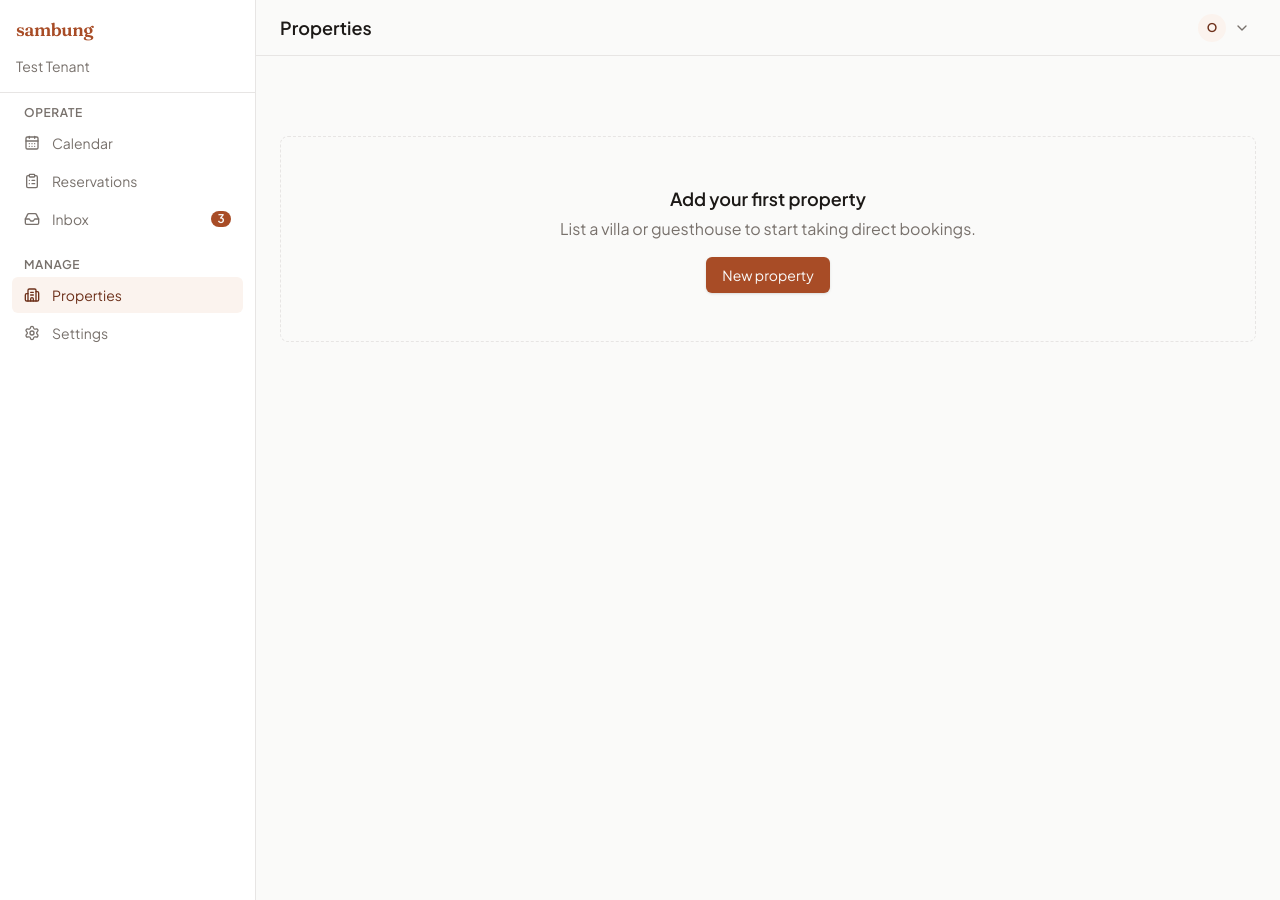
Scenario: AppShell › renders grouped nav, the account menu, and the inbox badge
Check: the text "Operate" is shown, box [24,105,83,120]
Check: the text "Manage" is shown, box [24,257,80,272]
Account menu surfaces the signed-in email + a log out action.
Click the button named "account menu".
click(1224, 28)  # box [1192,10,1256,46]
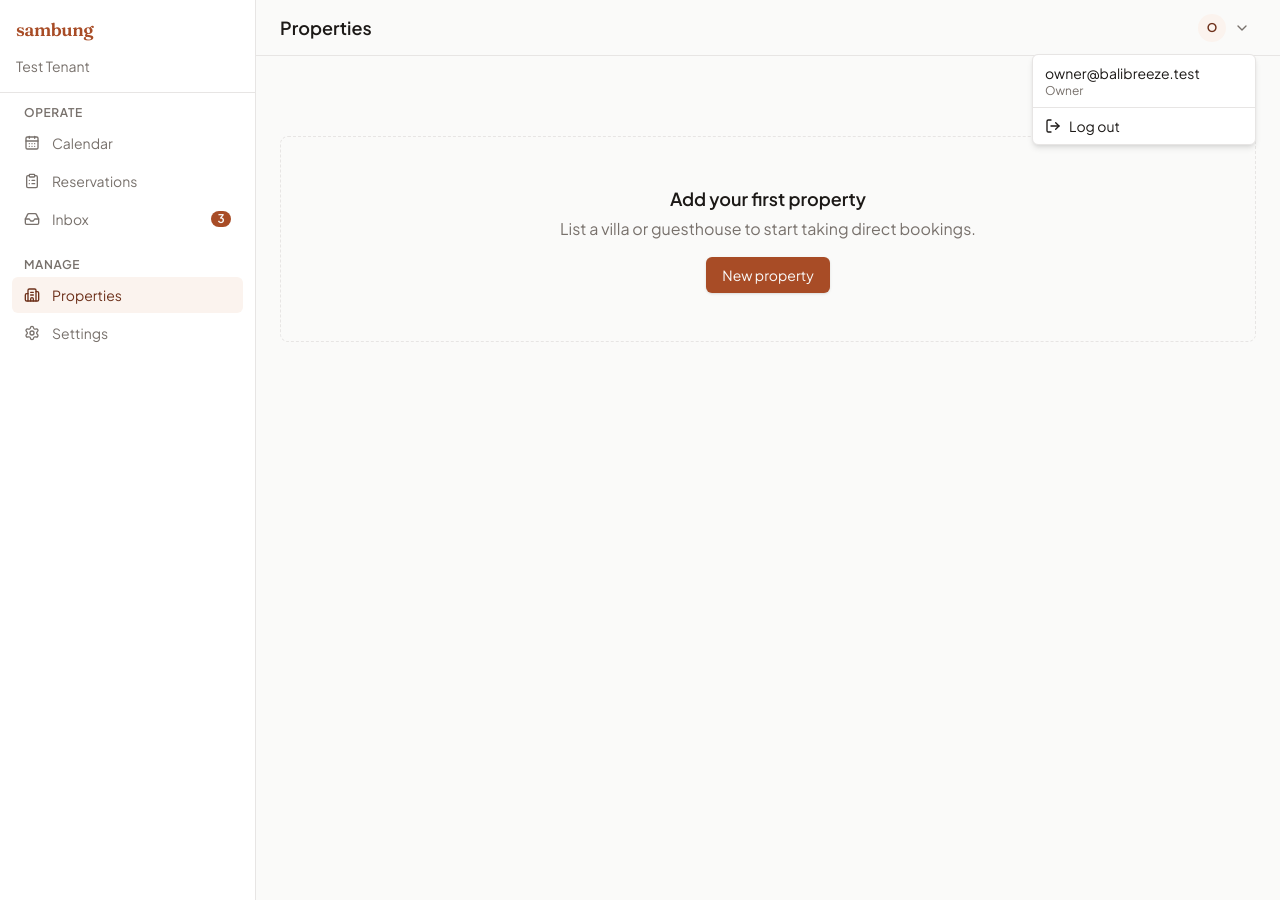
Check: the text "owner@balibreeze.test" is shown, box [1045,64,1200,82]
Check: the button "Log out" is shown, box [1033,108,1255,144]
